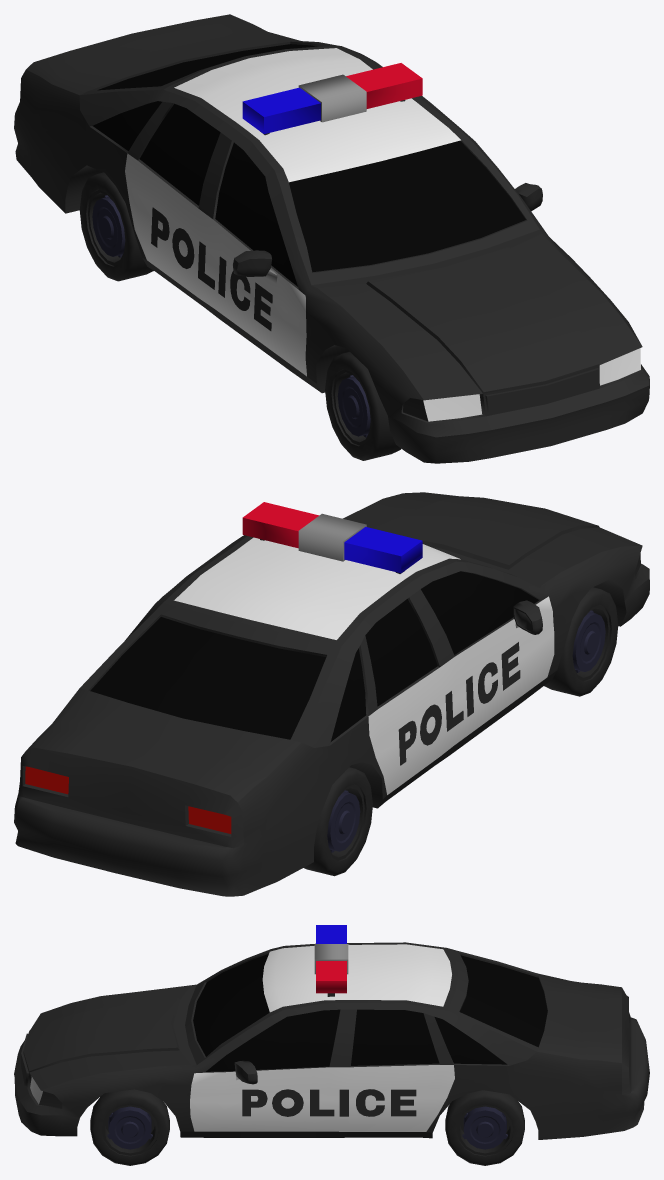
The model's file is vehicle_4.fbx.
3 renders of one model, top to bottom at view 1: azimuth 30°, elevation 25°; view 2: azimuth 150°, elevation 25°; view 3: azimuth 270°, elevation 25°, orthographic. The views are drawn at different scales.
Visible parts, largest first — view 1: Body, tire_2, tire_4; view 2: Body, tire_2, tire_4; view 3: Body, tire_1, tire_3.
Part boxes in pixels (x1,y1,x2,y2): Body: (14,14,649,463); tire_2: (325,352,401,460); tire_4: (79,172,153,281); Body: (14,492,649,896); tire_2: (544,587,618,696); tire_4: (303,767,372,876); Body: (14,925,649,1139); tire_1: (90,1089,169,1165); tire_3: (445,1090,524,1165).
Bounding box in the file's own units: 162 × 120 × 401.
